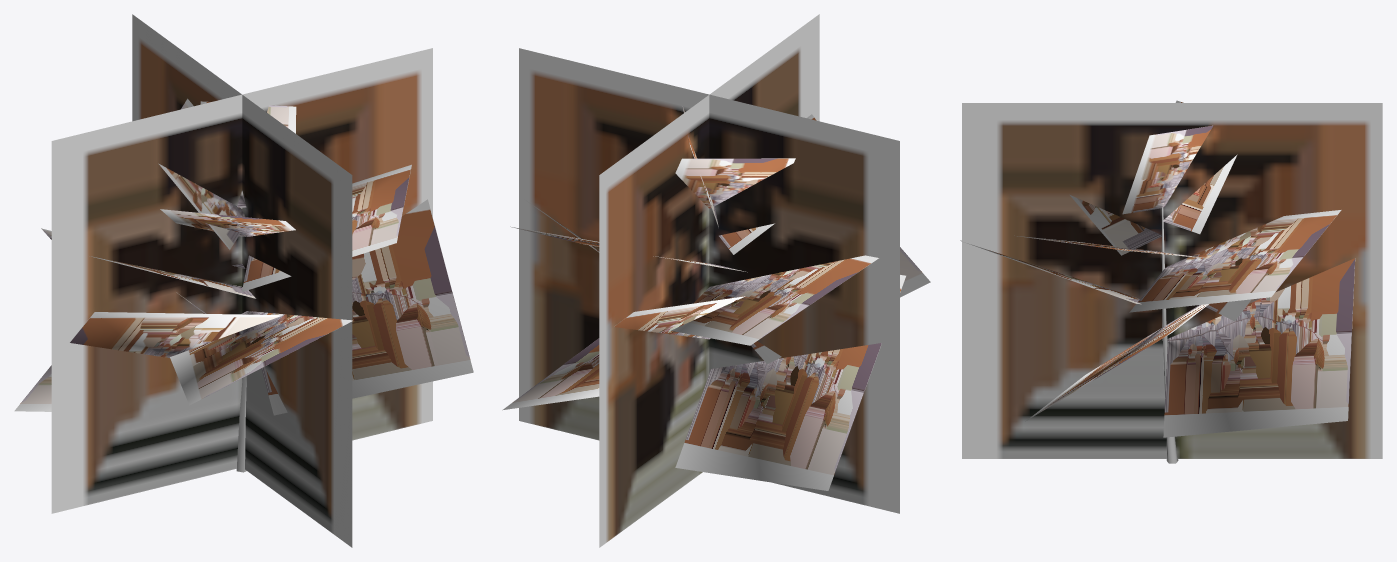
File: Tree-Beech5D.fbx
3 views of the same model, side by side, from view 1: azimuth 30°, elevation 25°; view 2: azimuth 150°, elevation 25°; view 3: azimuth 270°, elevation 25° (orthographic). The views are drawn at different scales.
Parts seen in each view (by area): view 1: Billboard-BeechD, Tree-Beech5D_LOD0; view 2: Billboard-BeechD, Tree-Beech5D_LOD0; view 3: Billboard-BeechD, Tree-Beech5D_LOD0.
Boxes of the visible parts, bbox=[...] form: Billboard-BeechD: bbox=[51, 14, 432, 547]; Tree-Beech5D_LOD0: bbox=[14, 98, 473, 472]; Billboard-BeechD: bbox=[519, 14, 899, 547]; Tree-Beech5D_LOD0: bbox=[502, 106, 930, 490]; Billboard-BeechD: bbox=[962, 103, 1382, 458]; Tree-Beech5D_LOD0: bbox=[960, 100, 1355, 463].
Size of what is drawn, in the model's own units: 709 by 667 by 714.
